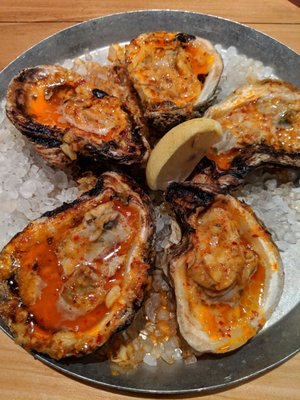curry: (0, 1, 298, 331)
